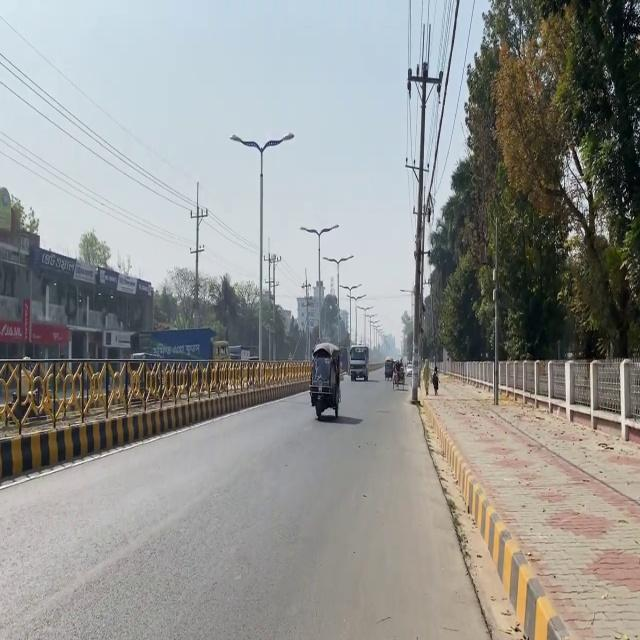Construction-barrier: (466, 470, 560, 640)
Fallen-tree: (308, 342, 342, 419), (392, 362, 405, 389)
Garbage-bin: (431, 366, 439, 394)
Pole: (0, 348, 234, 480)
Pothole: (418, 365, 639, 638)
Traffic-cone: (348, 344, 369, 381)
